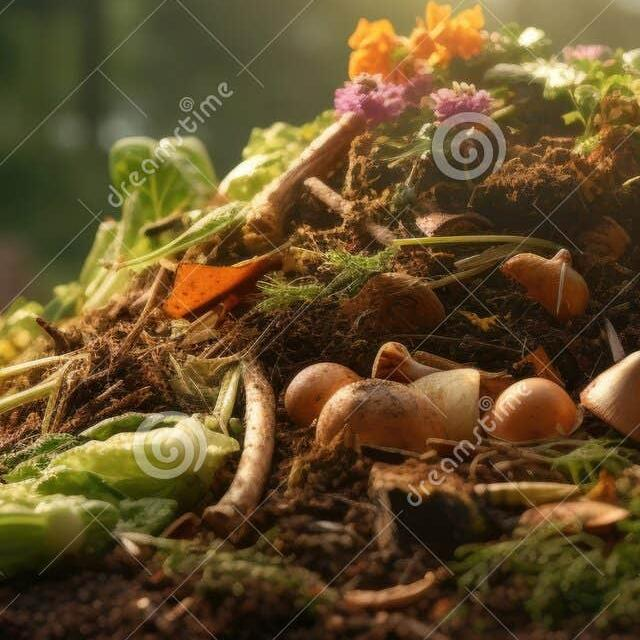food_waste: (148, 522, 499, 640), (0, 458, 142, 606), (498, 492, 640, 640), (242, 114, 429, 217), (500, 350, 616, 475), (24, 344, 200, 424), (150, 224, 293, 321), (310, 382, 462, 467), (344, 264, 462, 349), (514, 138, 630, 222), (496, 250, 606, 329), (266, 324, 344, 421), (580, 340, 640, 444)
